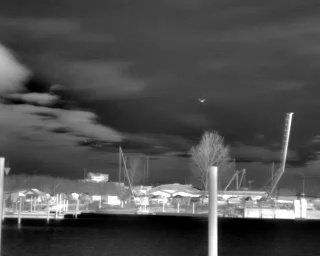BIRD: (197, 96, 207, 105)
